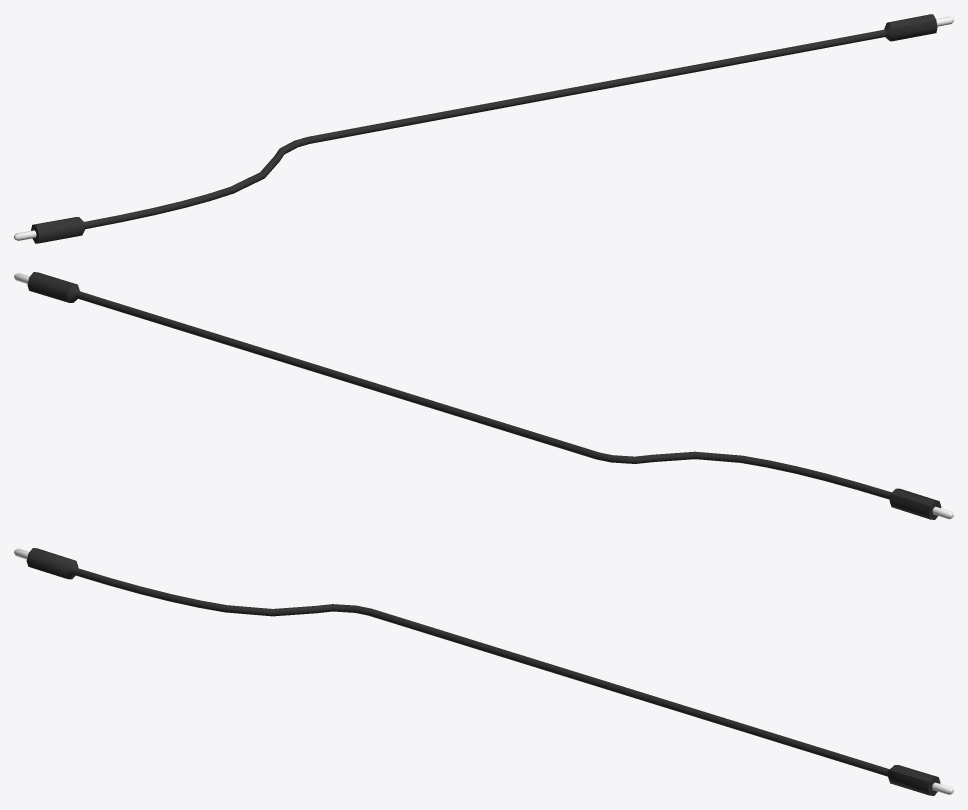
File: ElectroWires05_2.FBX
The picture shows the model from 3 angles, top to bottom: view 1: azimuth 30°, elevation 25°; view 2: azimuth 150°, elevation 25°; view 3: azimuth 330°, elevation 25°; orthographic projection. The views are drawn at different scales.
Visible parts, largest first — view 1: Object001; view 2: Object001; view 3: Object001.
Boxes of the visible parts, x1,y1,x2,y2 form: Object001: (14, 14, 953, 243); Object001: (14, 272, 953, 519); Object001: (14, 548, 953, 795).
Size of the model in its own units: 144 by 2.77 by 11.77.
